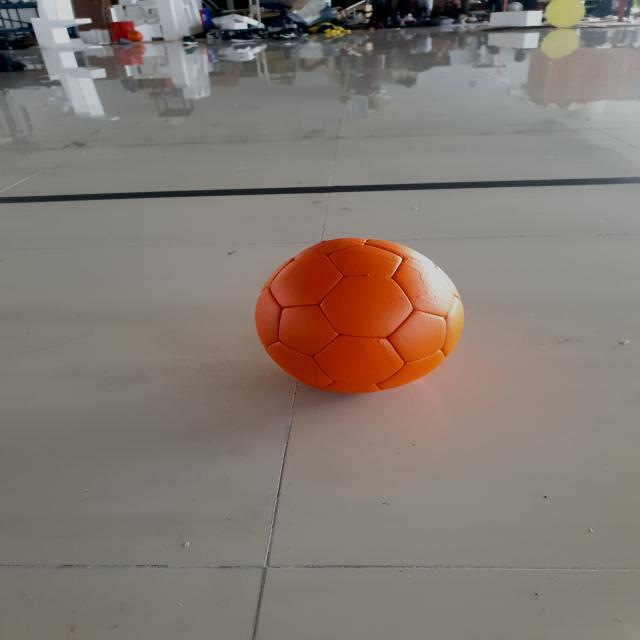bola: (245, 229, 472, 401)
